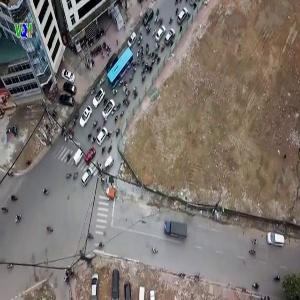drone: (68, 237, 111, 280)
